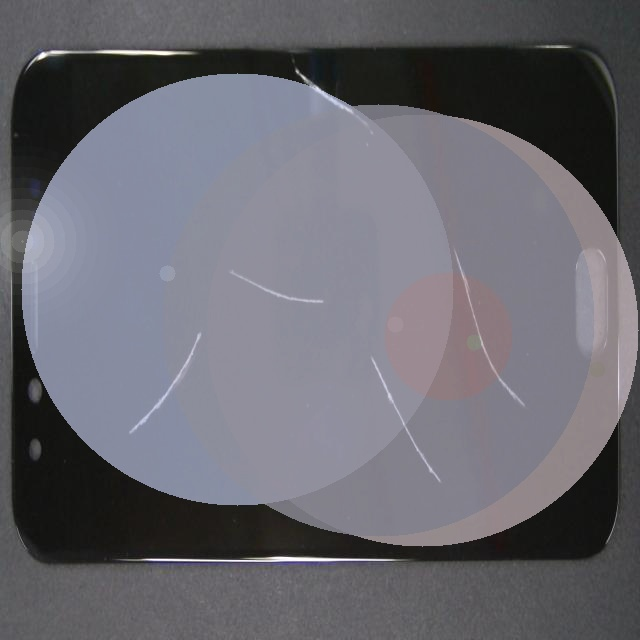scratch: (215, 259, 640, 640), (309, 292, 640, 521), (231, 166, 460, 415), (134, 106, 253, 534), (238, 84, 531, 149)
